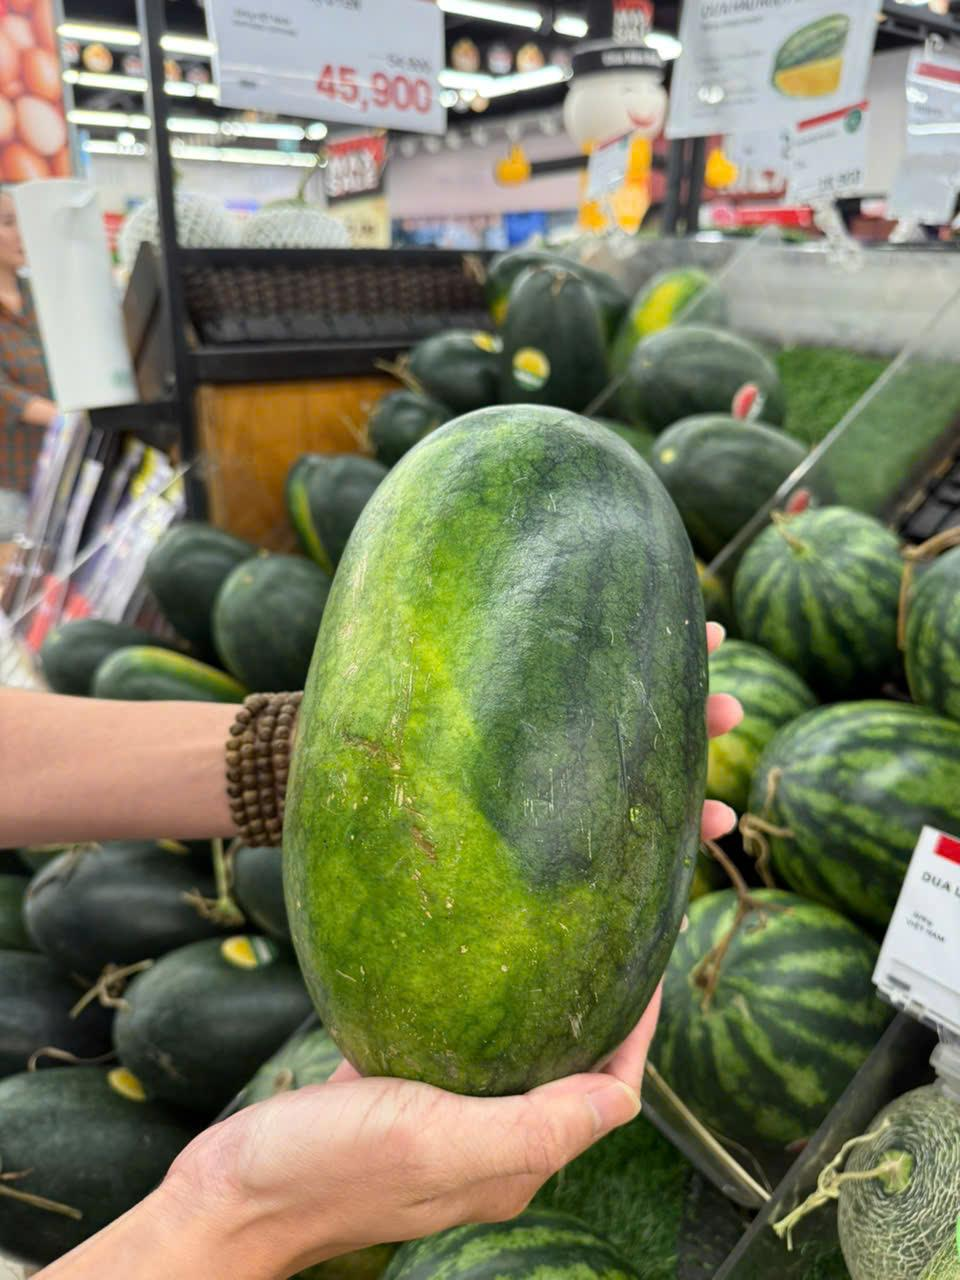watermelon: (285, 400, 704, 1092), (750, 698, 960, 878)
